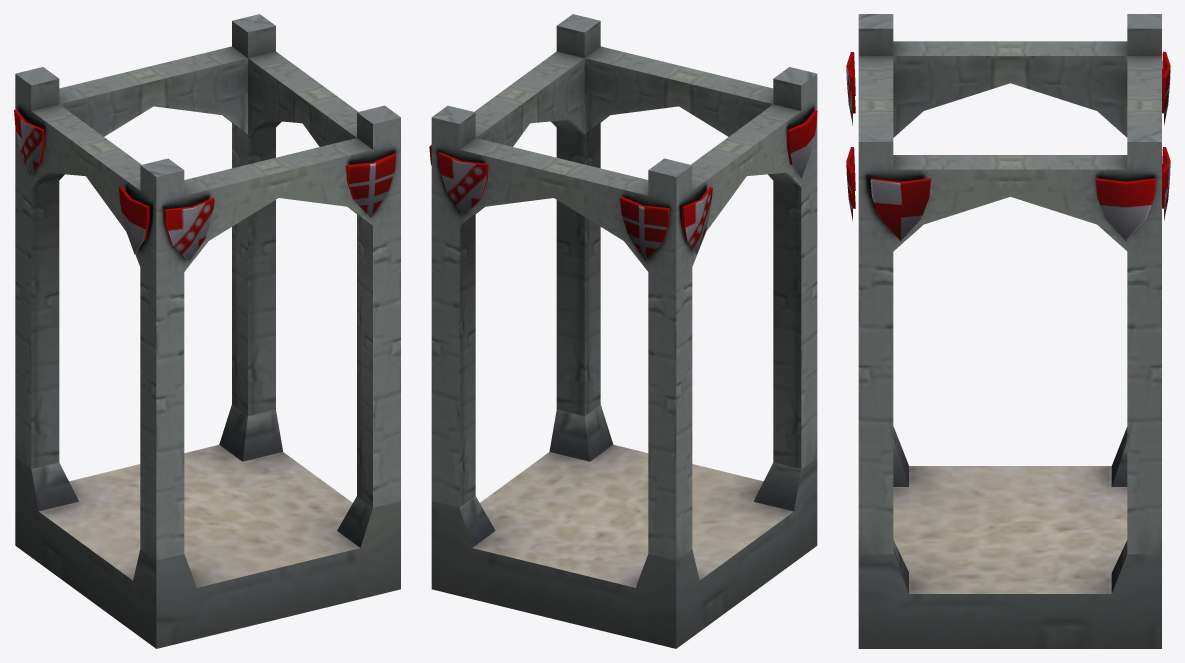
The model's file is med_tile_crossroad_static.obj.
3 views of the same model, side by side, from view 1: azimuth 30°, elevation 25°; view 2: azimuth 150°, elevation 25°; view 3: azimuth 270°, elevation 25° (orthographic). The views are drawn at different scales.
Visible parts, largest first — view 1: mid_static; view 2: mid_static; view 3: mid_static.
Part boxes in pixels (box(x1,y1,x2,y2)): mid_static: box(14, 14, 400, 648); mid_static: box(429, 14, 817, 648); mid_static: box(846, 14, 1170, 648).
Size of the model in its own units: 1.07 by 1.84 by 1.07.
1 material, 1 textured.
